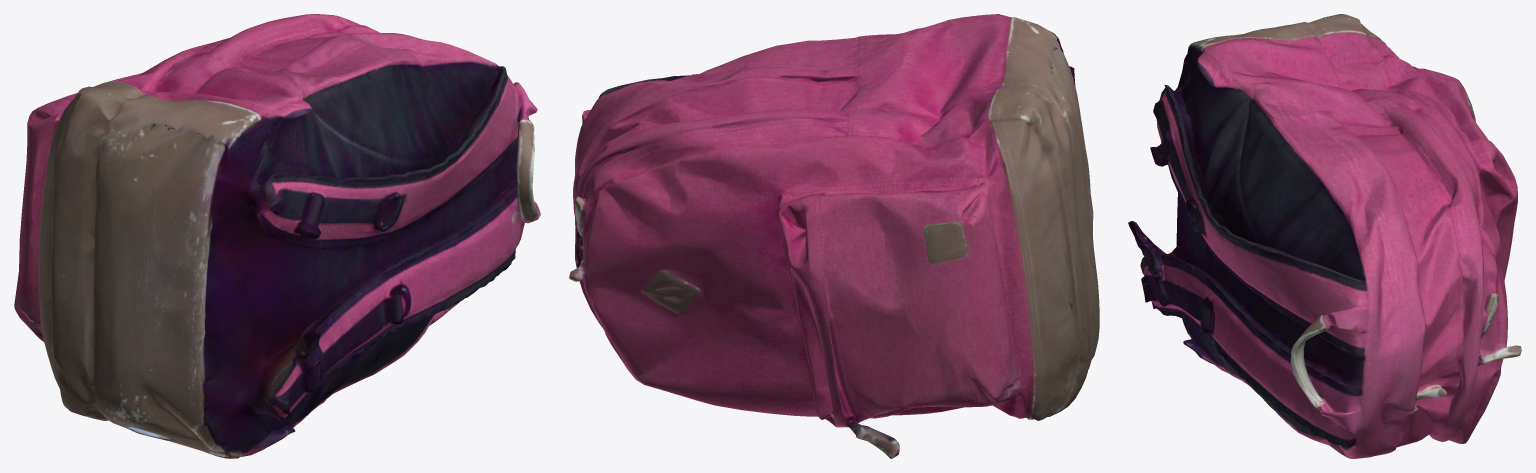
Rendered from Pink backpack.obj.
3 renders of one model, left to right at view 1: azimuth 30°, elevation 25°; view 2: azimuth 150°, elevation 25°; view 3: azimuth 270°, elevation 25°, orthographic. The views are drawn at different scales.
Size of the model in its own units: 489 by 325 by 372.
1 material, 1 textured.
